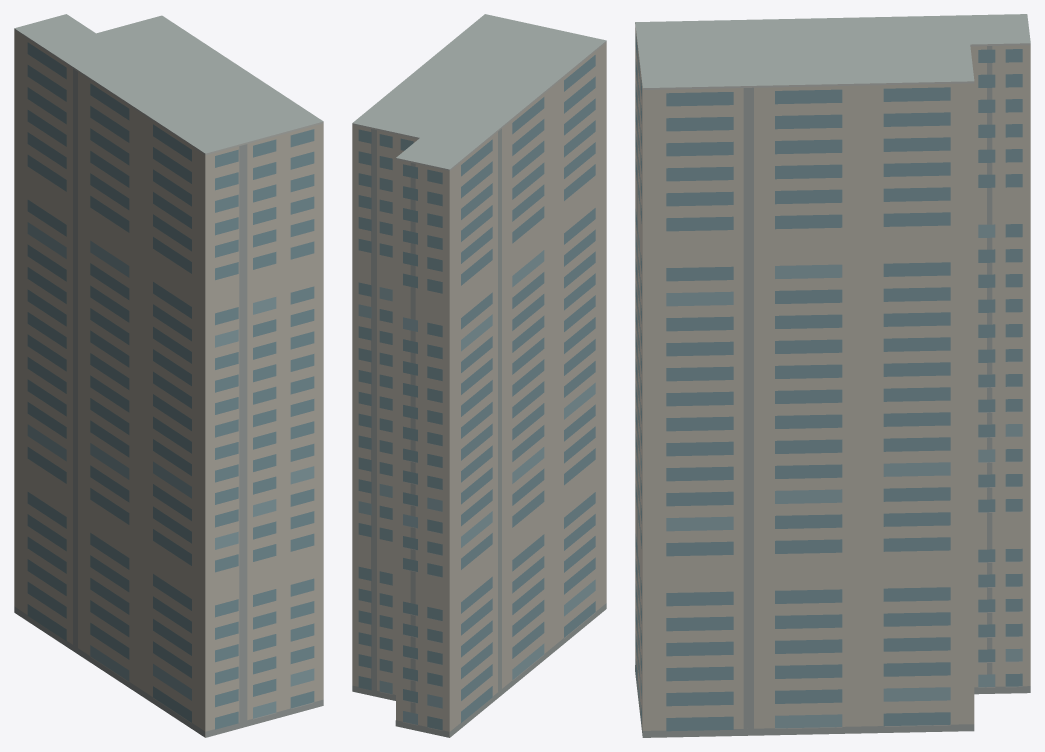
File: residential-ac2c4efa-e3e5-441c-b07c-7b3b3aa60392.glb
The picture shows the model from 3 angles, left to right: view 1: azimuth 30°, elevation 25°; view 2: azimuth 150°, elevation 25°; view 3: azimuth 270°, elevation 25°; orthographic projection. The views are drawn at different scales.
Visible parts, largest first — view 1: residential-ac2c4efa-e3e5-441c-b07c-7b3b3aa60392.tmp; view 2: residential-ac2c4efa-e3e5-441c-b07c-7b3b3aa60392.tmp; view 3: residential-ac2c4efa-e3e5-441c-b07c-7b3b3aa60392.tmp.
Part boxes in pixels (x1=…): residential-ac2c4efa-e3e5-441c-b07c-7b3b3aa60392.tmp: x1=14, y1=14, x2=323, y2=737; residential-ac2c4efa-e3e5-441c-b07c-7b3b3aa60392.tmp: x1=352, y1=14, x2=606, y2=737; residential-ac2c4efa-e3e5-441c-b07c-7b3b3aa60392.tmp: x1=635, y1=14, x2=1030, y2=737.
Size of the model in its own units: 20.33 by 83 by 45.81.
